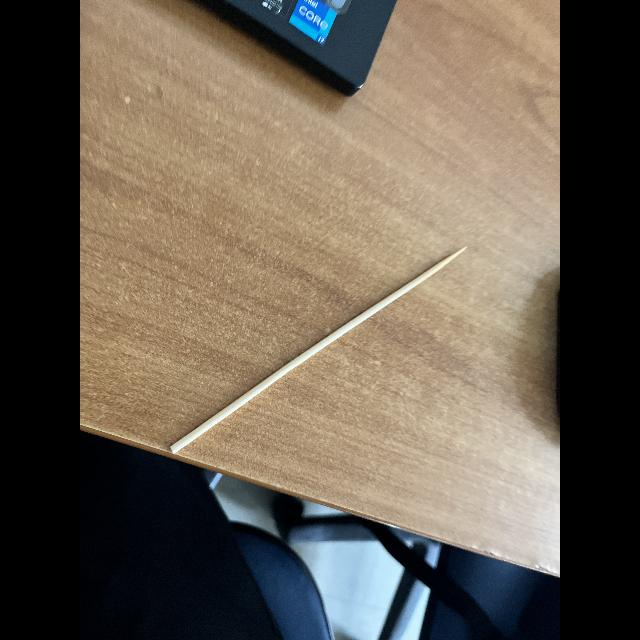stick: (157, 235, 477, 475)
